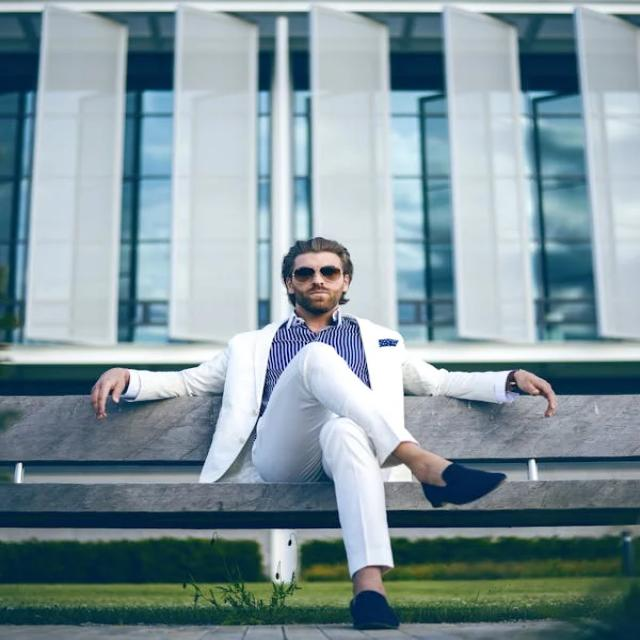Real human 2: (83, 230, 574, 640)
